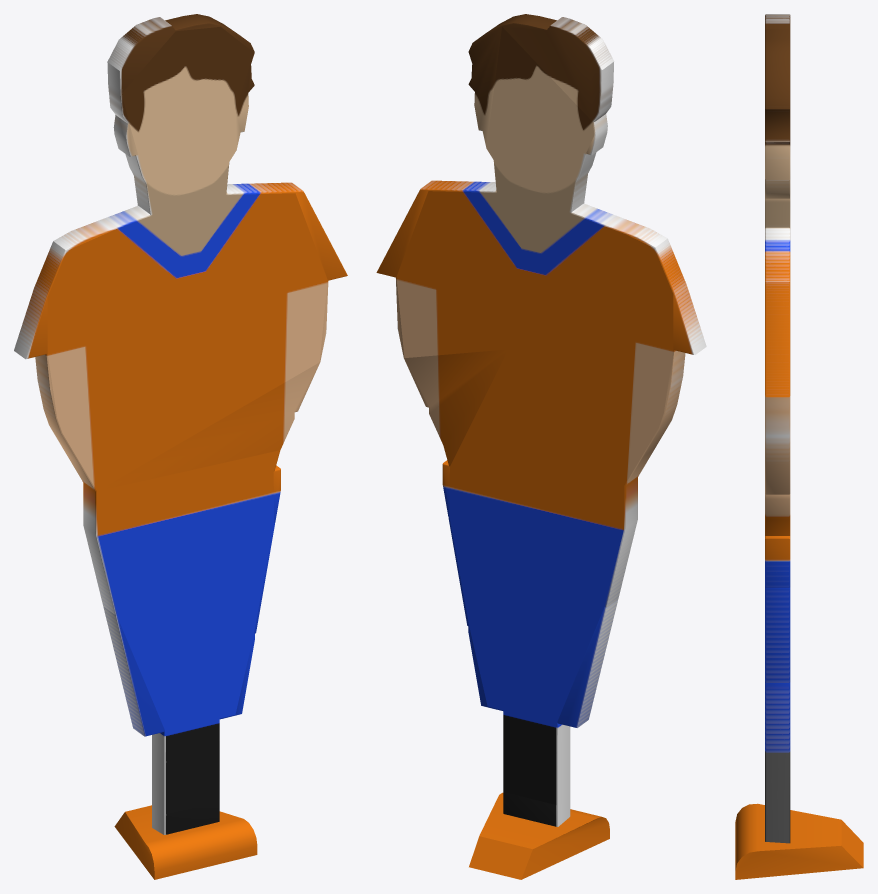
Rendered from defans2.gltf.
3 renders of one model, left to right at view 1: azimuth 30°, elevation 25°; view 2: azimuth 150°, elevation 25°; view 3: azimuth 270°, elevation 25°, orthographic.
Visible parts, largest first — view 1: Plane.003; view 2: Plane.003; view 3: Plane.003.
Part boxes in pixels (x1,y1,x2,y2): Plane.003: (14,14,347,879); Plane.003: (376,14,706,879); Plane.003: (735,14,863,879).
Bounding box in the file's own units: 2.02 × 5 × 0.7046.
1 material, 1 textured.
